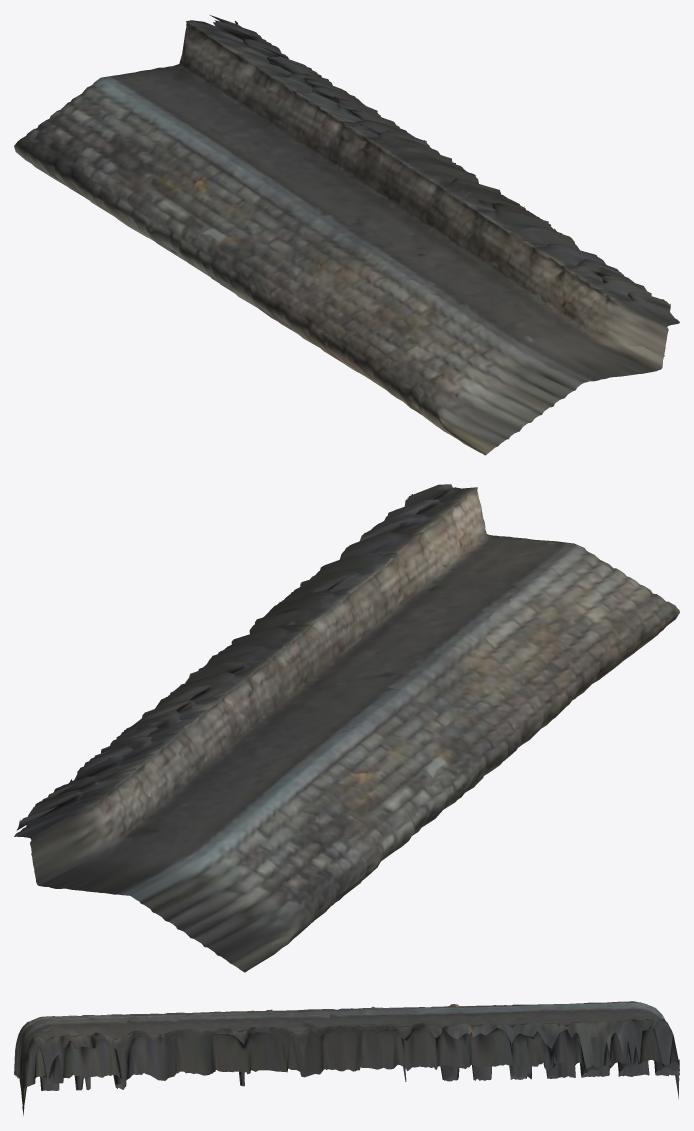
File: run4_p1_c9.glb
The picture shows the model from 3 angles, top to bottom: view 1: azimuth 30°, elevation 25°; view 2: azimuth 150°, elevation 25°; view 3: azimuth 270°, elevation 25°; orthographic projection. The views are drawn at different scales.
Visible parts, largest first — view 1: run4_p1_straight_c9; view 2: run4_p1_straight_c9; view 3: run4_p1_straight_c9.
Boxes of the visible parts, box(x1,y1,x2,y2) form: run4_p1_straight_c9: box(14, 15, 679, 455); run4_p1_straight_c9: box(14, 484, 679, 972); run4_p1_straight_c9: box(14, 1001, 679, 1115).
Size of the model in its own units: 7.98 by 3.3 by 20.31.
Materials: 1 (1 with a texture image).
